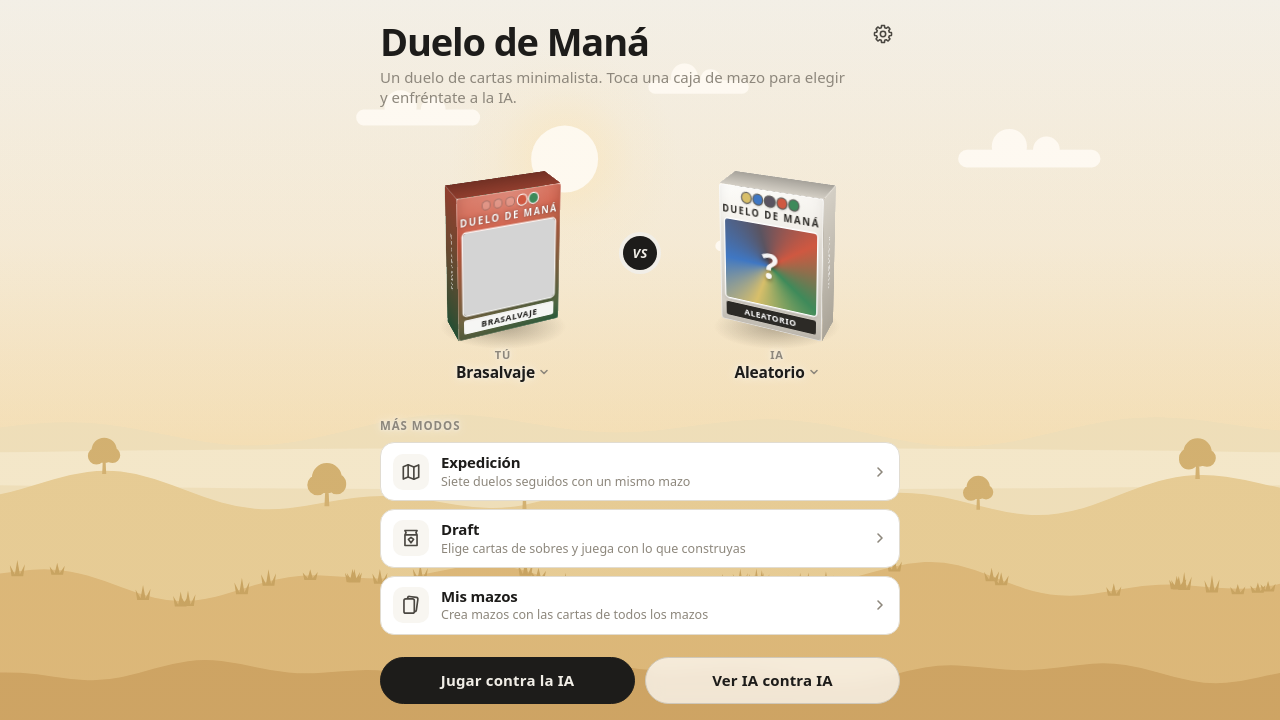
Test: start screen › shows your deck box against the AI’s and starts a game
Step 1. Click the button with test id "btn-play" → (508, 680), box x1=380 y1=656 x2=635 y2=704
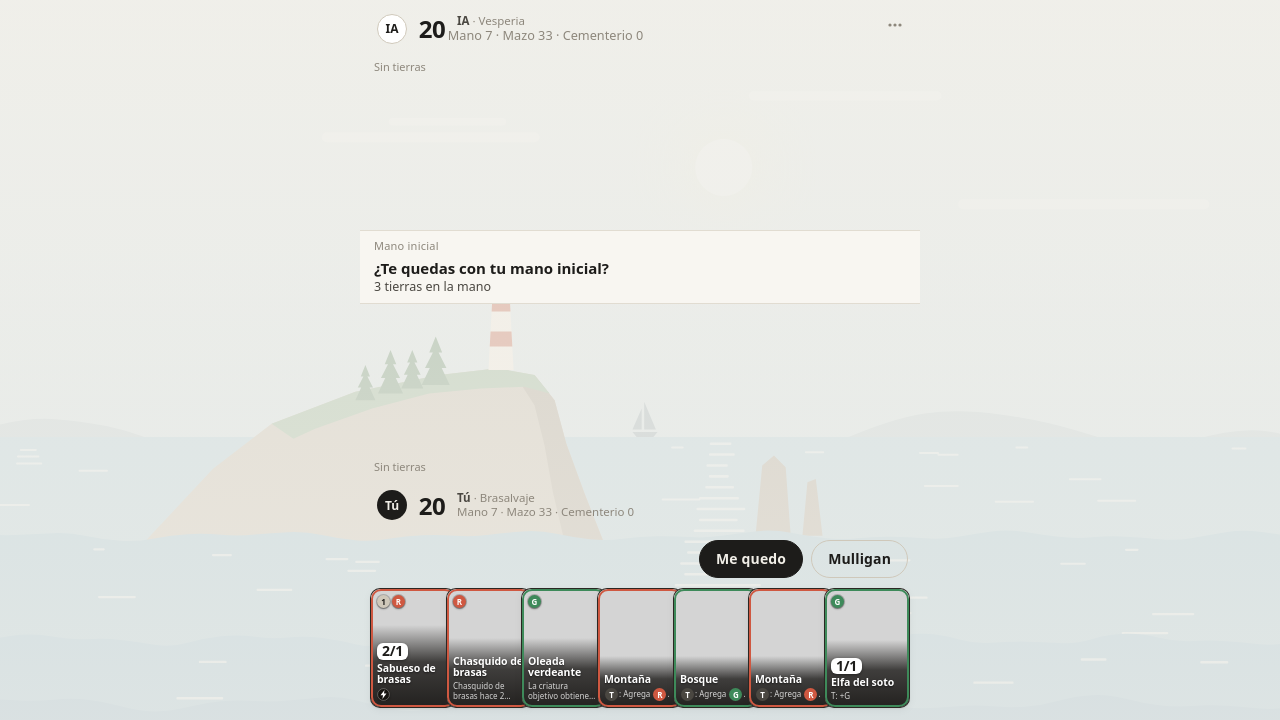
Now the text with test id "prompt" reads "¿Te quedas con tu mano inicial?", box x1=374 y1=258 x2=609 y2=278
